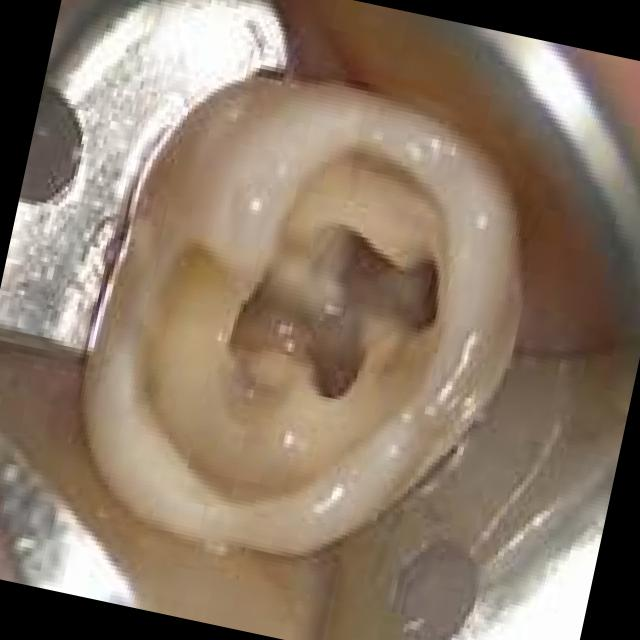Cavity: (140, 152, 446, 503)
Tooth: (79, 77, 525, 560)
